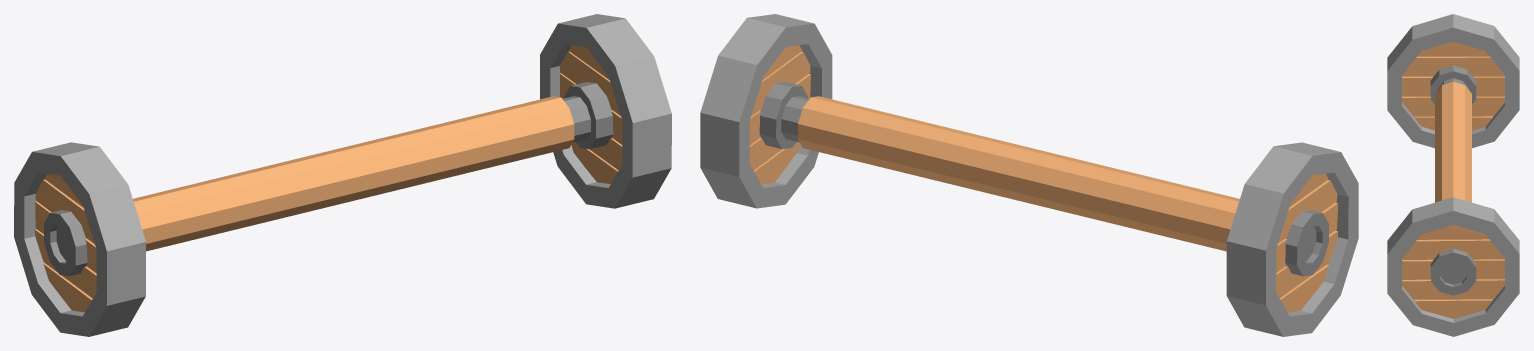
The model's file is wheels.04.fbx.
The picture shows the model from 3 angles, left to right: view 1: azimuth 30°, elevation 25°; view 2: azimuth 150°, elevation 25°; view 3: azimuth 270°, elevation 25°; orthographic projection. The views are drawn at different scales.
Visible parts, largest first — view 1: wheels.04; view 2: wheels.04; view 3: wheels.04.
Boxes of the visible parts, x1,y1,x2,y2 form: wheels.04: [14, 14, 671, 336]; wheels.04: [700, 14, 1358, 336]; wheels.04: [1387, 14, 1519, 336].
Size of the model in its own units: 3.03 by 0.9034 by 0.8604.
